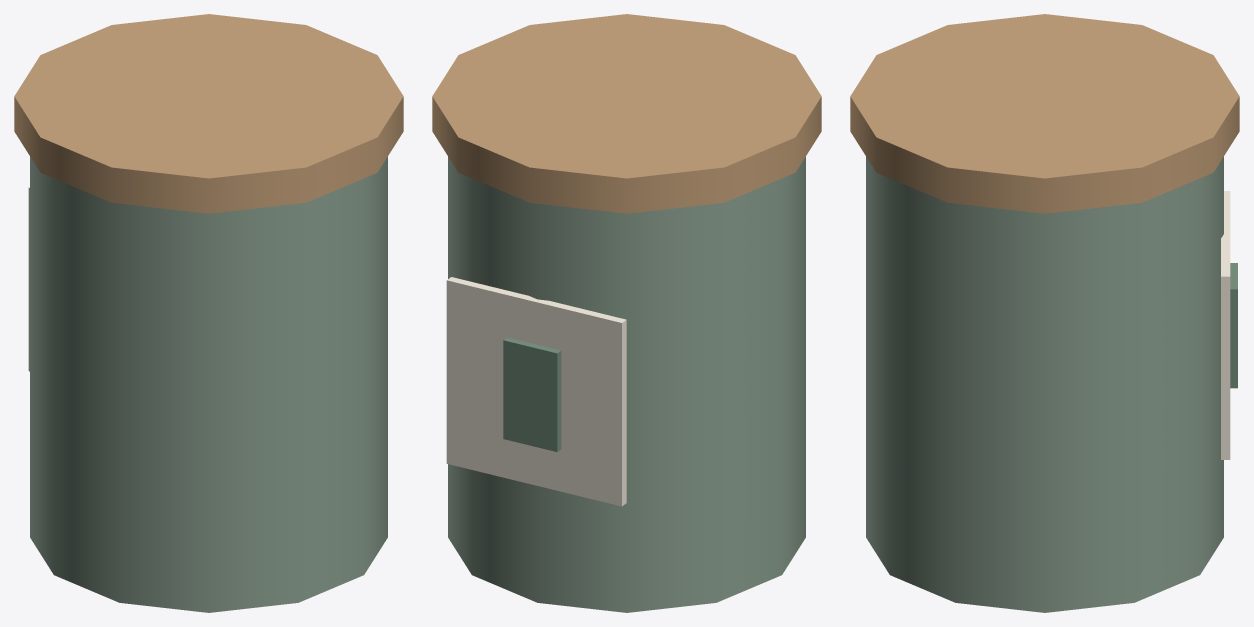
File: tea.glb
The picture shows the model from 3 angles, left to right: view 1: azimuth 30°, elevation 25°; view 2: azimuth 150°, elevation 25°; view 3: azimuth 270°, elevation 25°; orthographic projection.
Parts seen in each view (by area): view 1: tea.material0, tea.material1; view 2: tea.material0, tea.material1, tea.material2, tea.material3; view 3: tea.material0, tea.material1, tea.material2, tea.material3.
Boxes of the visible parts, x1,y1,x2,y2 form: tea.material0: (30, 157, 387, 612); tea.material1: (14, 14, 403, 213); tea.material0: (448, 157, 805, 612); tea.material1: (432, 14, 821, 213); tea.material2: (446, 277, 626, 506); tea.material3: (503, 337, 561, 452); tea.material0: (866, 157, 1223, 612); tea.material1: (850, 14, 1239, 213); tea.material2: (1221, 191, 1230, 459); tea.material3: (1230, 263, 1237, 388).
Bounding box in the file's own units: 0.25 × 0.3125 × 0.25.
